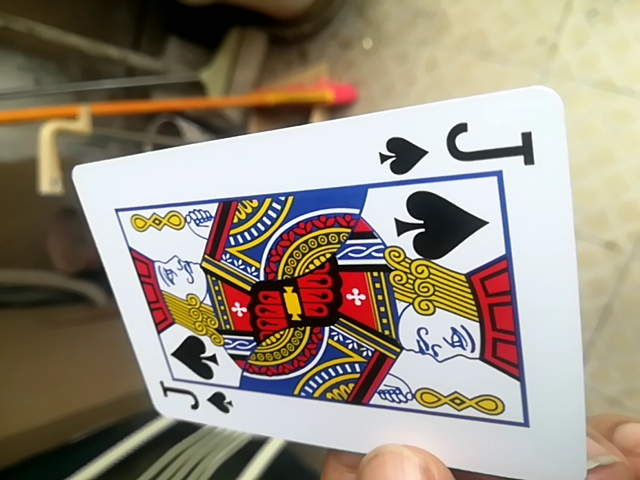ht j: (60, 90, 600, 472)
